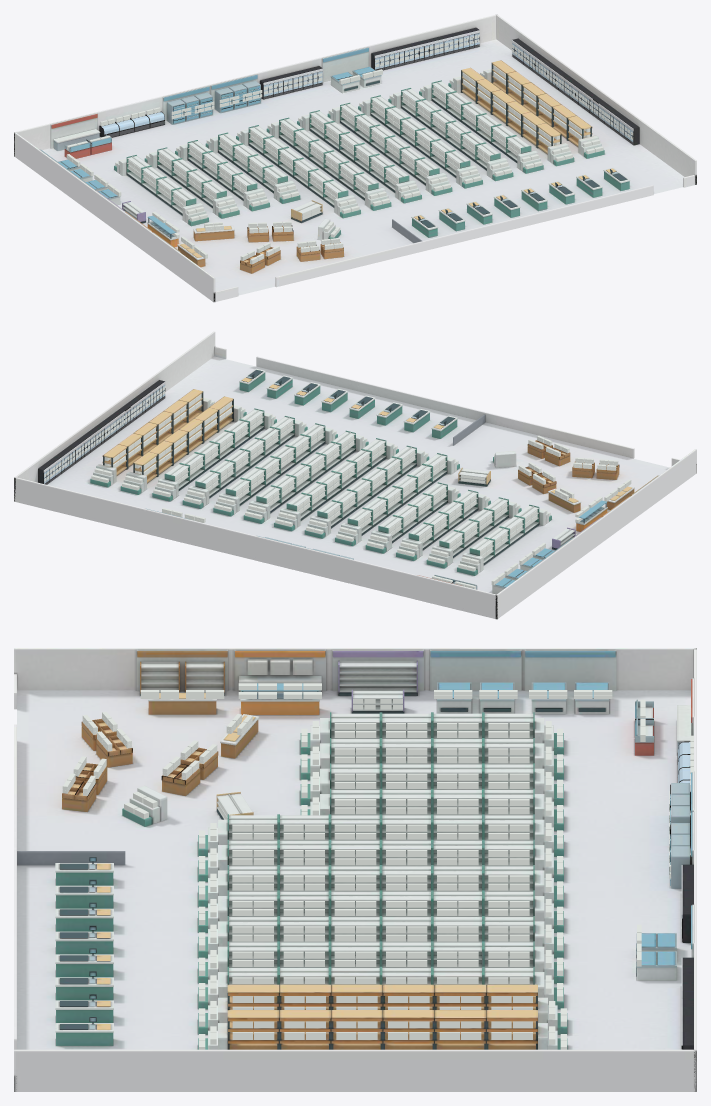
File: supermercado_2.glb
3 views of the same model, one above another, from view 1: azimuth 30°, elevation 25°; view 2: azimuth 150°, elevation 25°; view 3: azimuth 270°, elevation 25° (orthographic). The views are drawn at different scales.
Parts seen in each view (by area): view 1: MAP_estatico; view 2: MAP_estatico; view 3: MAP_estatico.
Part boxes in pixels (x1=…): MAP_estatico: x1=14, y1=14, x2=696, y2=302; MAP_estatico: x1=14, y1=331, x2=696, y2=619; MAP_estatico: x1=14, y1=648, x2=696, y2=1091.
Size of the model in its own units: 63.4 by 3 by 45.4.
Materials: 2 (1 with a texture image).
